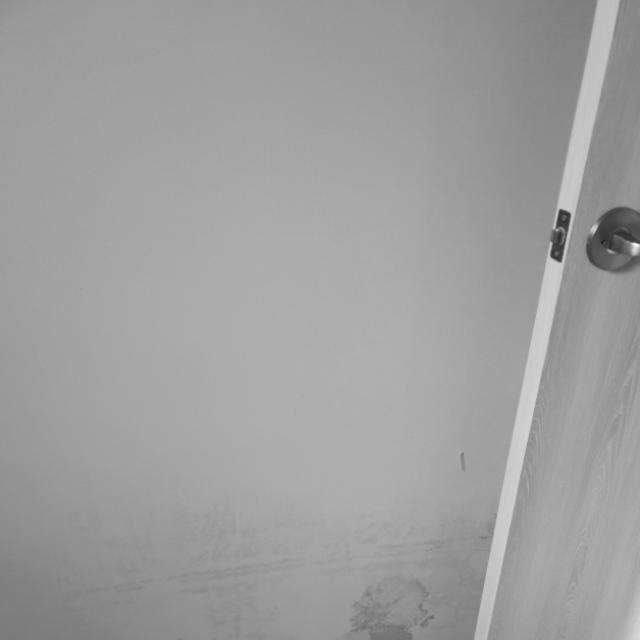stain marks: (36, 496, 493, 635)
